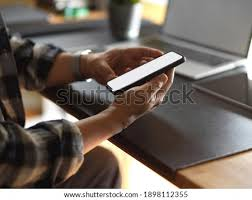Cell Phone: (104, 51, 185, 95)
